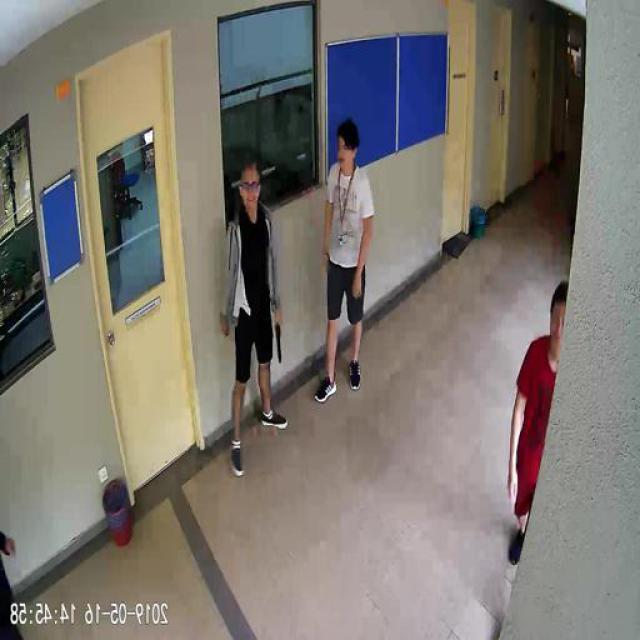Gun: (276, 318, 285, 362)
